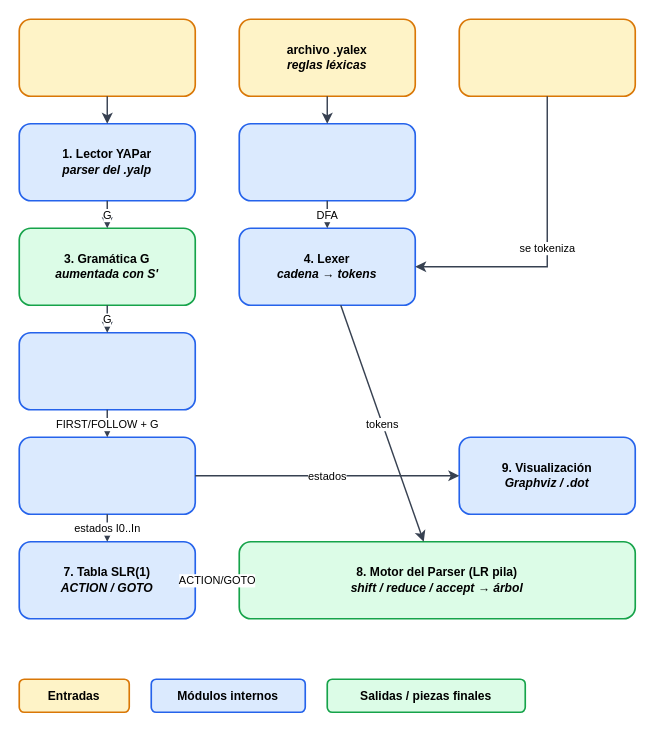
Image size: 656x733. Some labels were removed from this diagram. Here are the shapes that lost their labels. From the top down, the centre of each, then its label:
At point (107, 57): "archivo .yalp gramática (estilo Yacc)".
At point (547, 57): "fuente a parsear cadena de entrada".
At point (327, 161): "2. YALex (previo) DFA léxico".
At point (107, 370): "5. FIRST / FOLLOW punto fijo".
At point (107, 475): "6. Autómata LR(0) closure / goto".
